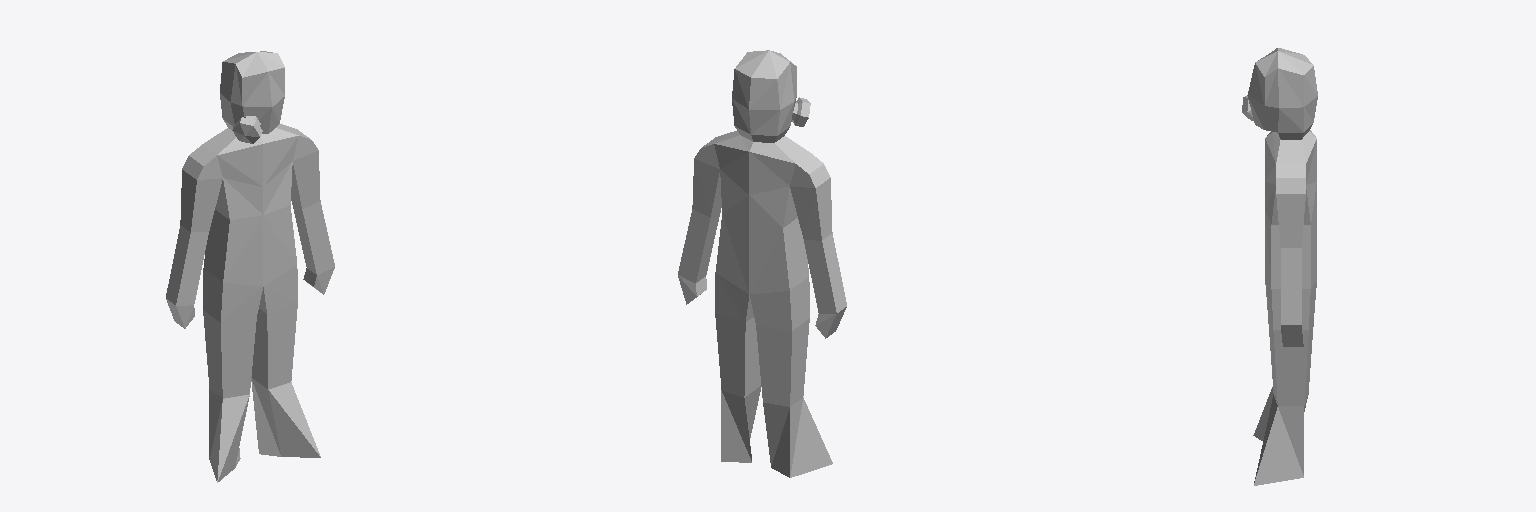
The model's file is pinkerton.obj.
3 views of the same model, side by side, from view 1: azimuth 30°, elevation 25°; view 2: azimuth 150°, elevation 25°; view 3: azimuth 270°, elevation 25° (orthographic).
Visible parts, largest first — view 1: Body, Cylinder.001; view 2: Body; view 3: Body.
Part boxes in pixels (x1,y1,x2,y2): Body: (166,51,334,482); Cylinder.001: (232,117,262,143); Body: (678,50,846,477); Body: (1247,48,1317,485).
Bounding box in the file's own units: 0.9348 × 2.3 × 0.3882.